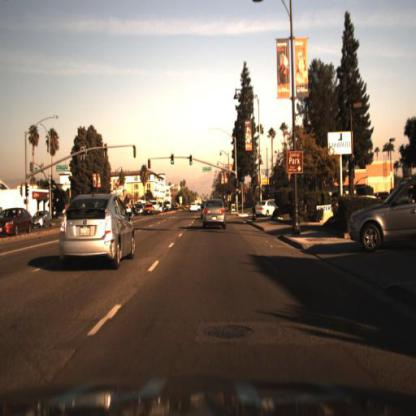car: (57, 187, 137, 269), (350, 176, 416, 253), (201, 195, 229, 231), (255, 198, 282, 221), (33, 211, 55, 232), (189, 200, 201, 216)
trafficLight: (148, 157, 154, 172)
trafficLight-Green: (243, 168, 251, 186), (169, 153, 177, 168), (190, 149, 196, 167)
